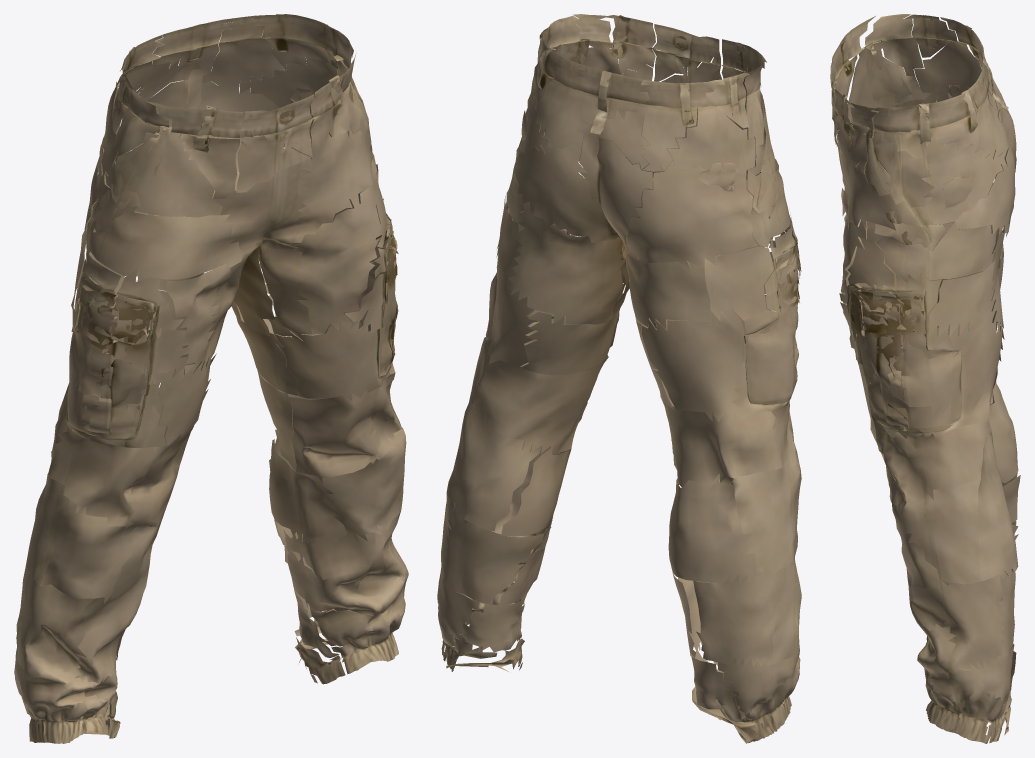
File: dante.glb
The picture shows the model from 3 angles, left to right: view 1: azimuth 30°, elevation 25°; view 2: azimuth 150°, elevation 25°; view 3: azimuth 270°, elevation 25°; orthographic projection. The views are drawn at different scales.
Parts seen in each view (by area): view 1: geometry_0; view 2: geometry_0; view 3: geometry_0.
Part boxes in pixels (<box>): geometry_0: <box>14,14,408,743</box>; geometry_0: <box>437,14,801,743</box>; geometry_0: <box>830,14,1020,743</box>.
Size of the model in its own units: 0.5677 by 0.9675 by 0.2721.
1 material, 1 textured.
